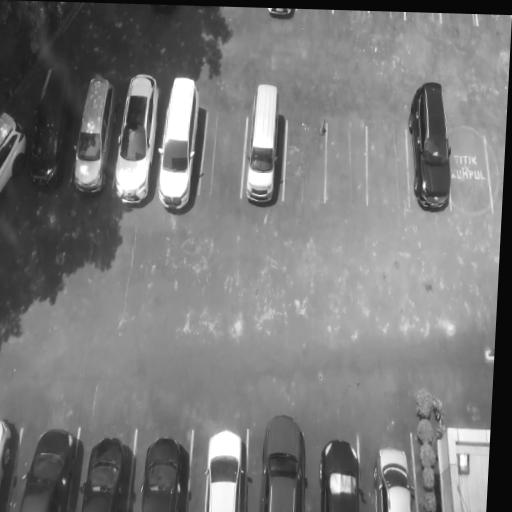Car: (150, 75, 206, 213), (108, 74, 164, 206), (22, 62, 76, 195), (66, 72, 121, 196), (410, 79, 454, 215), (17, 423, 78, 512), (258, 413, 307, 512), (244, 81, 282, 206), (80, 433, 129, 512), (203, 427, 247, 512), (141, 437, 183, 512), (0, 105, 31, 200), (322, 439, 361, 512), (374, 446, 413, 512), (0, 416, 19, 502)
Space Available: (201, 113, 248, 199), (366, 125, 410, 209), (325, 125, 368, 204), (284, 122, 324, 202), (450, 135, 492, 208), (442, 13, 478, 26)
